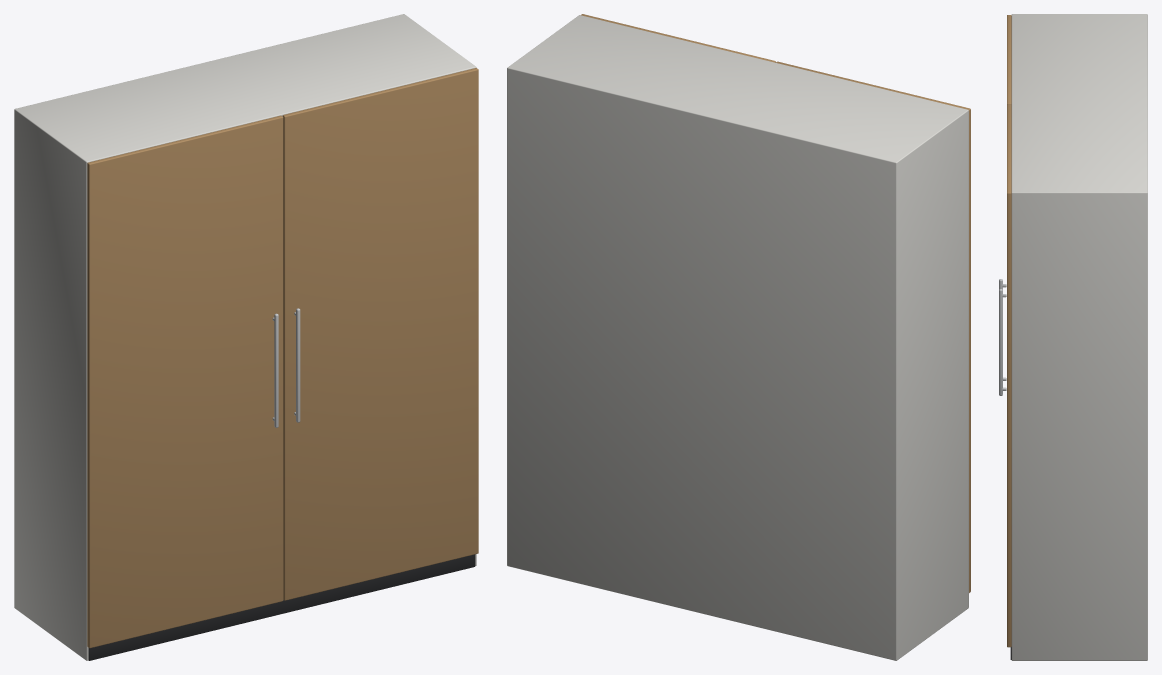
Rendered from armario.glb.
3 renders of one model, left to right at view 1: azimuth 30°, elevation 25°; view 2: azimuth 150°, elevation 25°; view 3: azimuth 270°, elevation 25°, orthographic. The views are drawn at different scales.
Visible parts, largest first — view 1: Puerta.009, Puerta.010, Cuerpo.012, Zócalo.007; view 2: Cuerpo.012, Puerta.009; view 3: Cuerpo.012, Puerta.010, Puerta.009, Tirador.015.
Boxes of the visible parts, box(x1,y1,x2,y2) form: Puerta.009: box(87, 115, 283, 648); Puerta.010: box(282, 68, 478, 600); Cuerpo.012: box(14, 14, 476, 660); Zócalo.007: box(88, 554, 475, 660); Cuerpo.012: box(507, 15, 968, 660); Puerta.009: box(776, 61, 970, 592); Cuerpo.012: box(1011, 14, 1147, 660); Puerta.010: box(1007, 104, 1011, 647); Puerta.009: box(1007, 15, 1011, 104); Tirador.015: box(999, 289, 1002, 395).
Bounding box in the file's own units: 1.8 × 2.2 × 0.633.
